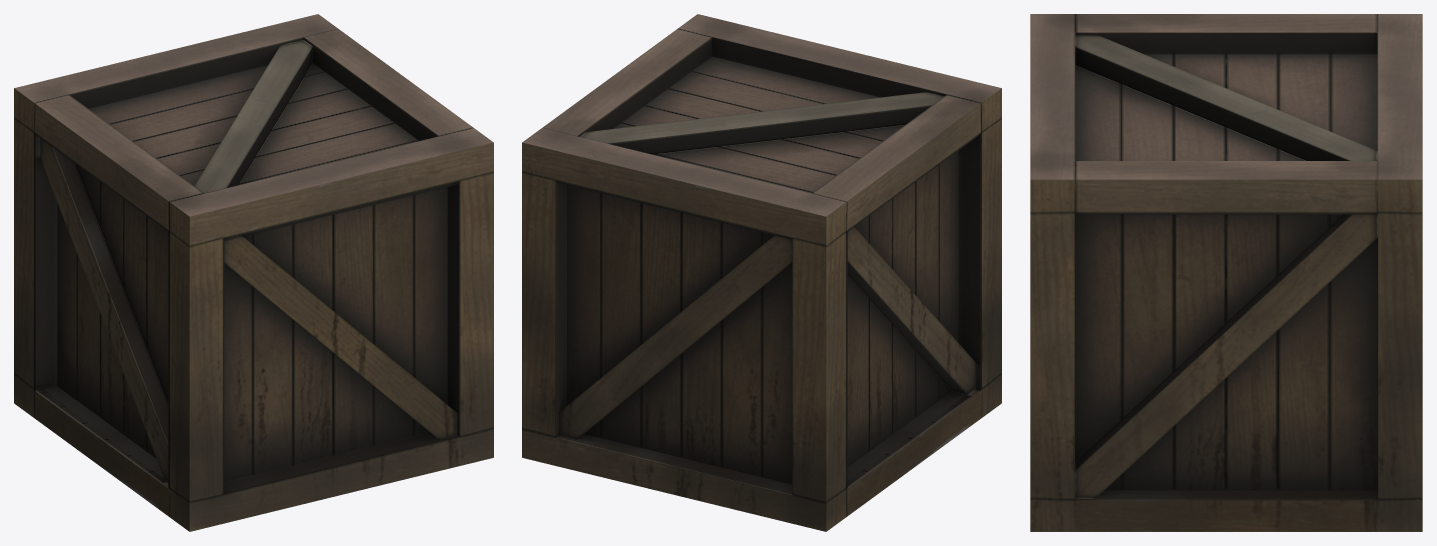
Rendered from wooden_box_low_poly.glb.
3 views of the same model, side by side, from view 1: azimuth 30°, elevation 25°; view 2: azimuth 150°, elevation 25°; view 3: azimuth 270°, elevation 25° (orthographic). The views are drawn at different scales.
Parts seen in each view (by area): view 1: Object_2; view 2: Object_2; view 3: Object_2.
Boxes of the visible parts, x1,y1,x2,y2 form: Object_2: (14,14,493,531); Object_2: (522,14,1001,531); Object_2: (1030,14,1422,531).
Size of the model in its own units: 2.89 by 2.87 by 2.89.
1 material, 1 textured.
